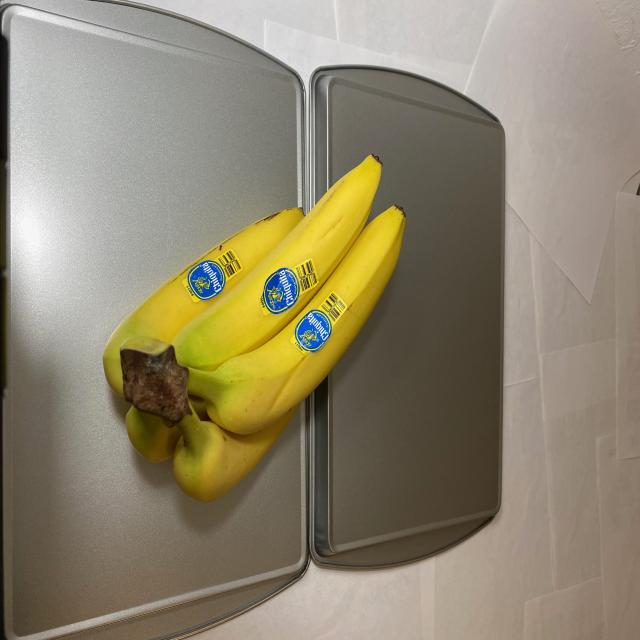banana: (101, 156, 410, 505)
